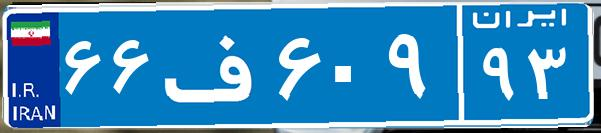0: (330, 28, 385, 110)
3: (525, 38, 570, 115)
6: (273, 28, 330, 110), (57, 26, 110, 107), (110, 28, 158, 105)
9: (385, 28, 445, 110), (475, 38, 525, 113)
ف: (158, 15, 273, 115)
